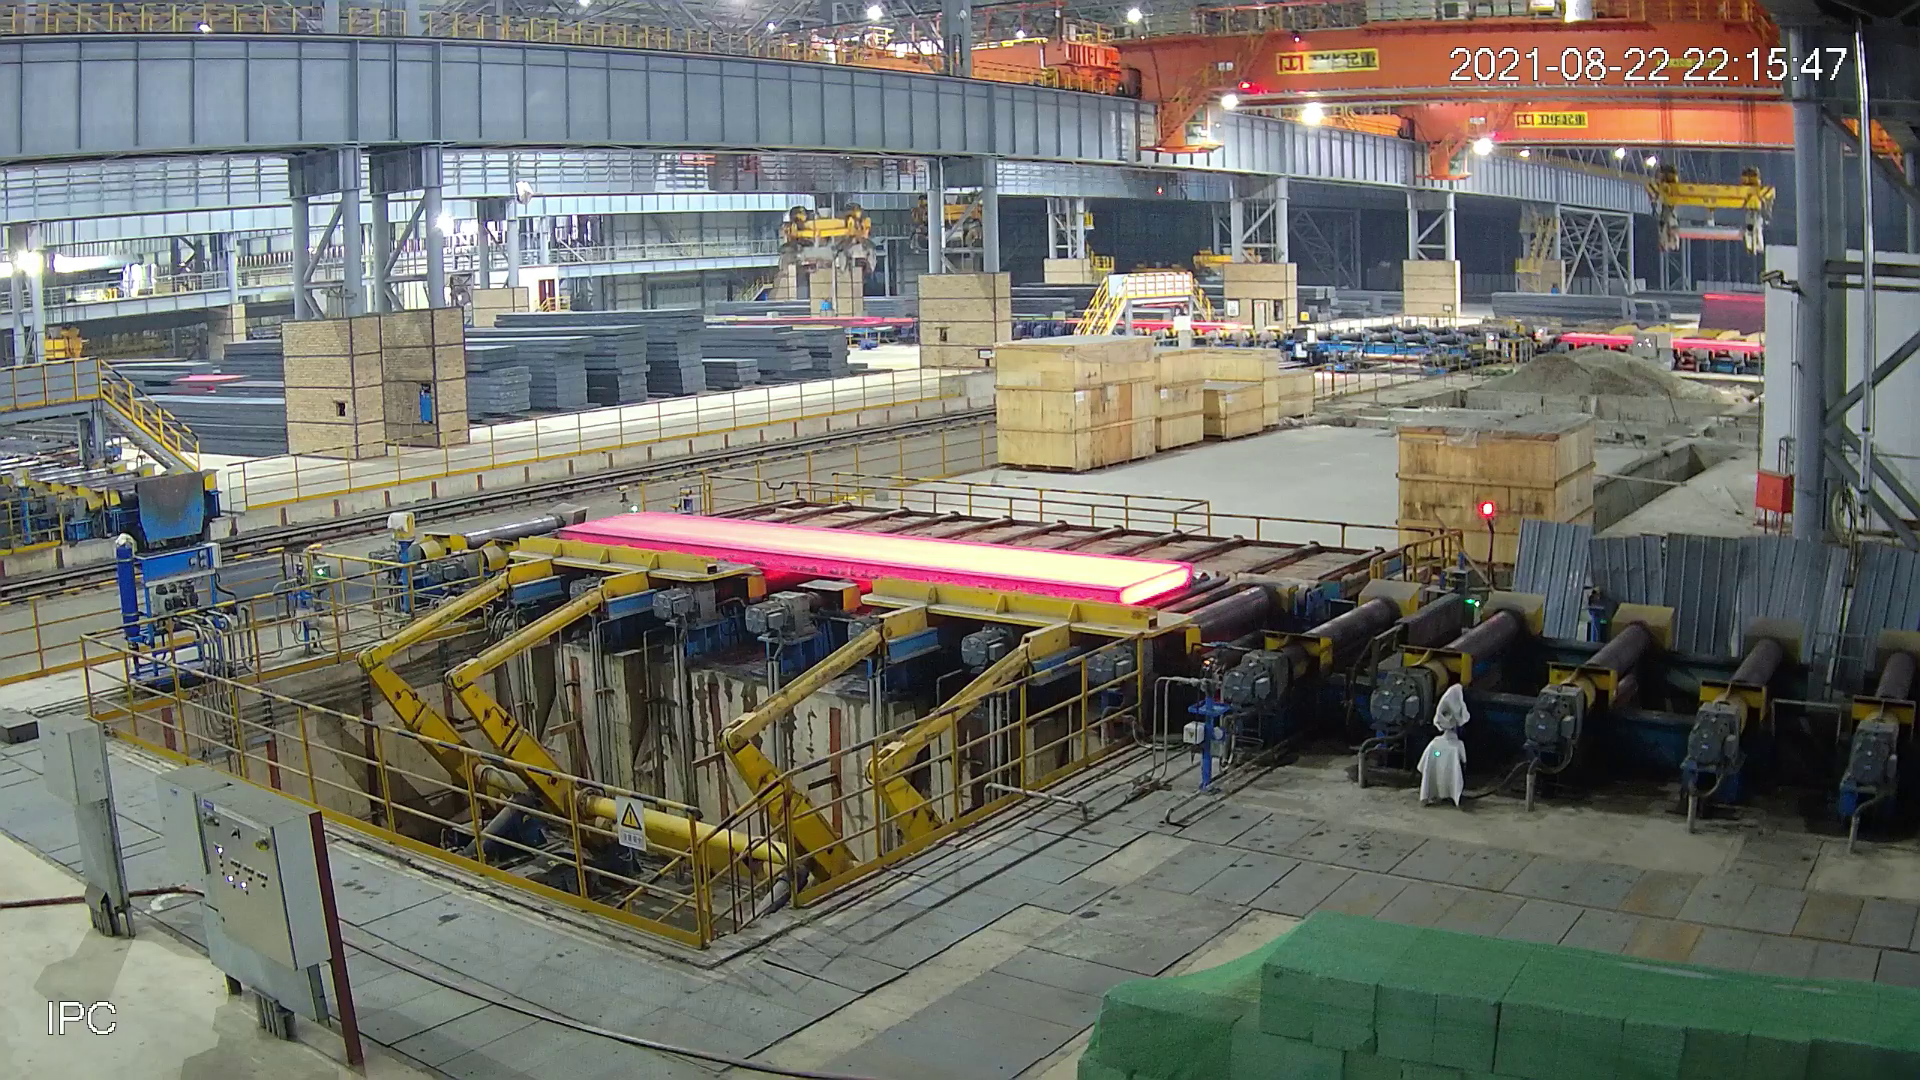slab: (556, 509, 1192, 605)
